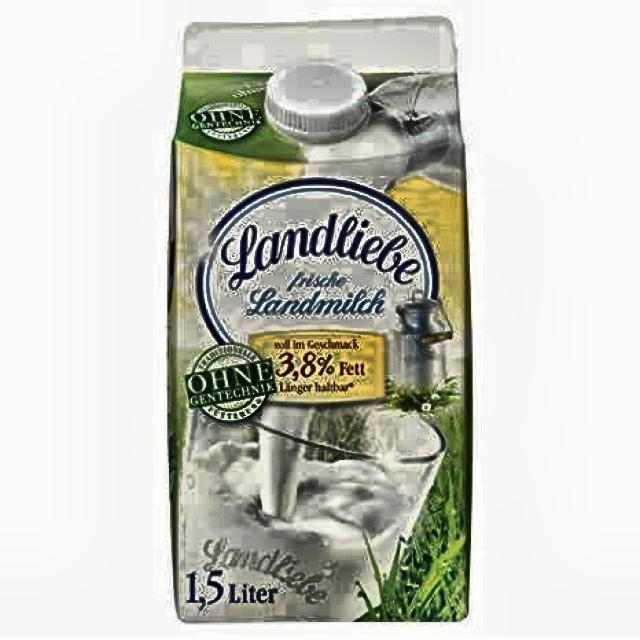cardboard: (166, 15, 471, 622)
